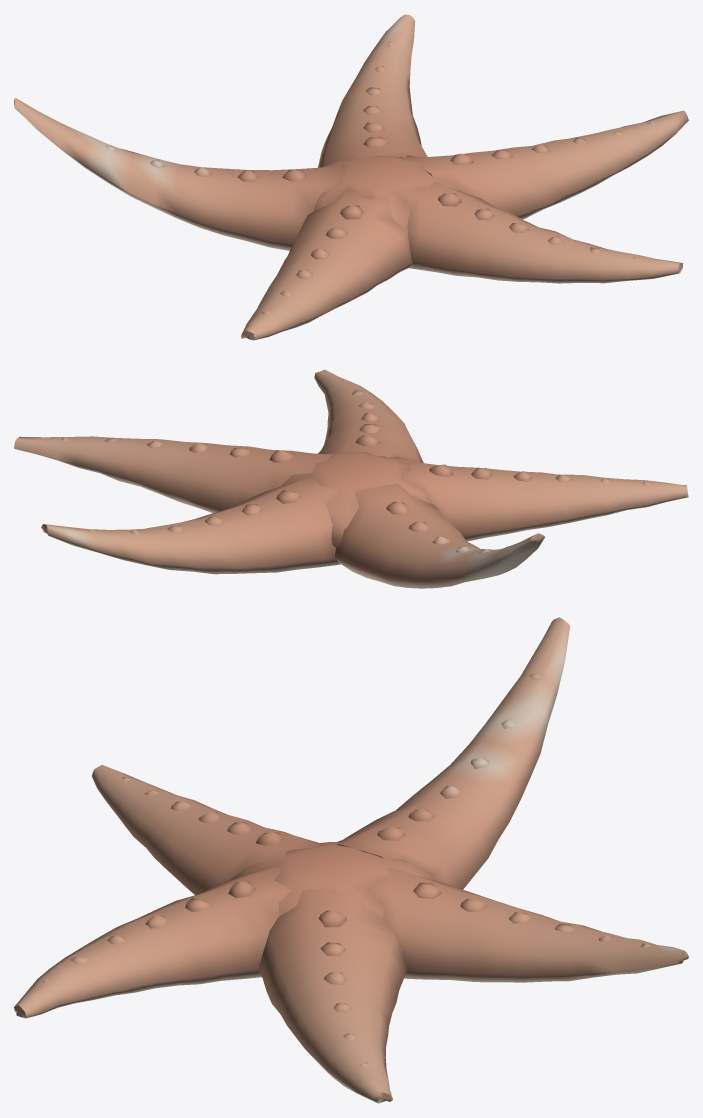
Rendered from starfish.glb.
3 renders of one model, top to bottom at view 1: azimuth 30°, elevation 25°; view 2: azimuth 150°, elevation 25°; view 3: azimuth 270°, elevation 25°, orthographic. The views are drawn at different scales.
Parts seen in each view (by area): view 1: starfish; view 2: starfish; view 3: starfish.
Boxes of the visible parts, x1,y1,x2,y2 form: starfish: (14, 14, 688, 340); starfish: (14, 369, 688, 588); starfish: (14, 617, 688, 1103).
Size of the model in its own units: 0.5004 by 0.118 by 0.4049.
